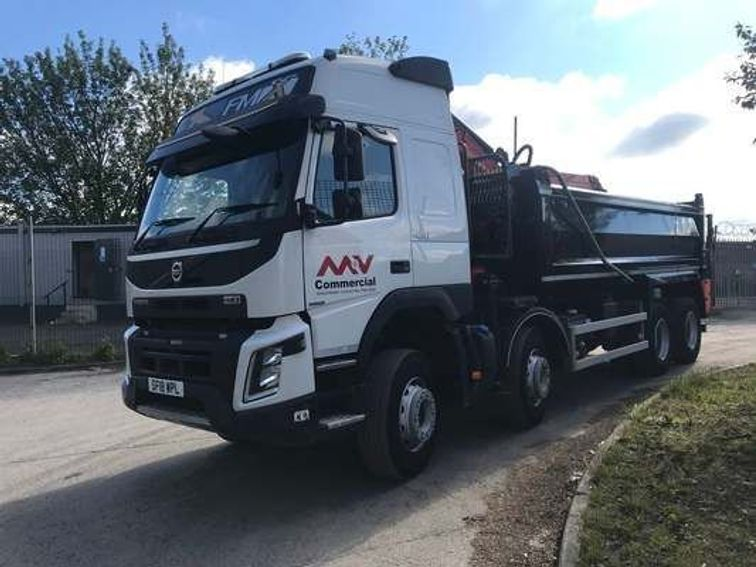Semi: (121, 47, 717, 482)
